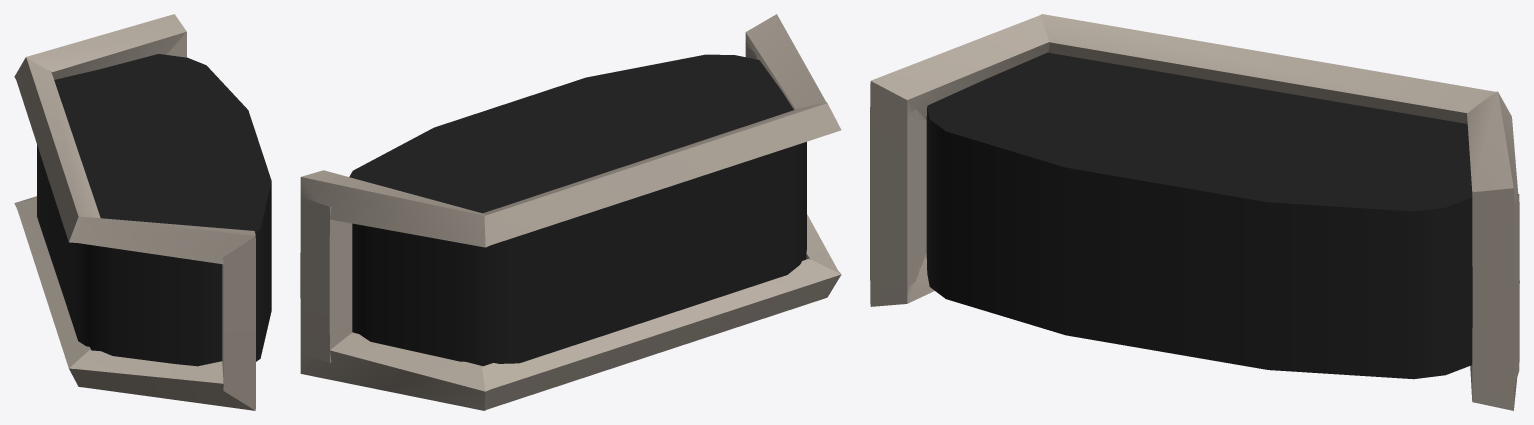
Rendered from callipers.obj.
3 views of the same model, side by side, from view 1: azimuth 30°, elevation 25°; view 2: azimuth 150°, elevation 25°; view 3: azimuth 270°, elevation 25° (orthographic). The views are drawn at different scales.
Visible parts, largest first — view 1: Box01, Loft01; view 2: Box01, Loft01; view 3: Box01, Loft01.
Part boxes in pixels (<box>): Box01: <box>37,54,271,366</box>; Loft01: <box>14,14,255,410</box>; Box01: <box>349,54,806,366</box>; Loft01: <box>300,14,841,410</box>; Box01: <box>926,52,1472,379</box>; Loft01: <box>870,14,1519,410</box>.
Size of the model in its own units: 0.1154 by 0.0666 by 0.1734.
